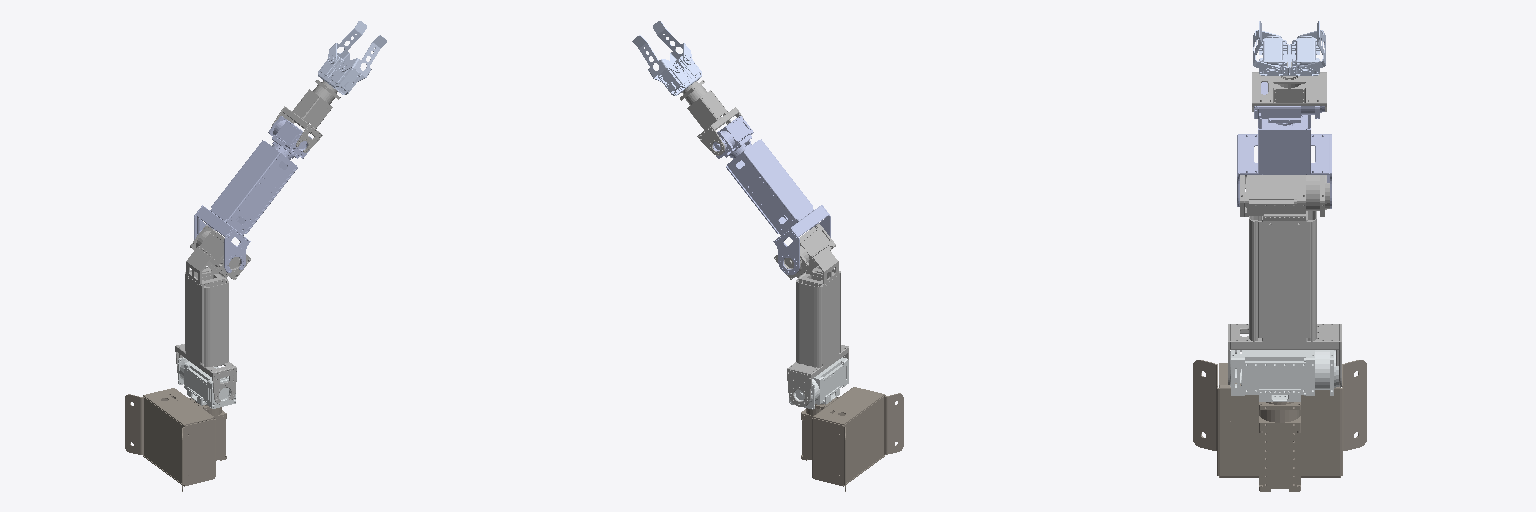
robot.urdf — h_arm_urdf:
<robot
  name="h_arm_urdf">
  <link
    name="arm_base_link">
    <inertial>
      <origin
        xyz="-0.025341 -0.00015693 0.00087354"
        rpy="0 0 0" />
      <mass
        value="1.6075" />
      <inertia
        ixx="0.0079143"
        ixy="-1.2323E-06"
        ixz="9.2385E-05"
        iyy="0.0053506"
        iyz="-7.6719E-06"
        izz="0.0072753" />
    </inertial>
    <visual>
      <origin
        xyz="0 0 0"
        rpy="0 0 0" />
      <geometry>
        <mesh
          filename="package://robotican_description/robot_arms/h_arm_urdfV3/meshes/arm_base_link.STL" />
      </geometry>
      <material
        name="">
        <color
          rgba="0.64706 0.61961 0.58824 1" />
      </material>
    </visual>
    <collision>
      <origin
        xyz="0 0 0"
        rpy="0 0 0" />
      <geometry>
        <mesh
          filename="package://robotican_description/robot_arms/h_arm_urdfV3/meshes/arm_base_link.STL" />
      </geometry>
    </collision>
  </link>
  <link
    name="arm_rotation1_link">
    <inertial>
      <origin
        xyz="-3.5191E-10 0.0073117 0.067899"
        rpy="0 0 0" />
      <mass
        value="0.35317" />
      <inertia
        ixx="0.00055596"
        ixy="9.2617E-12"
        ixz="9.2232E-12"
        iyy="0.00016945"
        iyz="6.1918E-06"
        izz="0.00055286" />
    </inertial>
    <visual>
      <origin
        xyz="0 0 0"
        rpy="0 0 0" />
      <geometry>
        <mesh
          filename="package://robotican_description/robot_arms/h_arm_urdfV3/meshes/arm_rotation1_link.STL" />
      </geometry>
      <material
        name="">
        <color
          rgba="0.89804 0.91765 0.92941 1" />
      </material>
    </visual>
    <collision>
      <origin
        xyz="0 0 0"
        rpy="0 0 0" />
      <geometry>
        <mesh
          filename="package://robotican_description/robot_arms/h_arm_urdfV3/meshes/arm_rotation1_link.STL" />
      </geometry>
    </collision>
  </link>
  <joint
    name="arm_rotation1_joint"
    type="revolute">
    <origin
      xyz="0.027 0 0.033"
      rpy="0 0 0" />
    <parent
      link="arm_base_link" />
    <child
      link="arm_rotation1_link" />
    <axis
      xyz="0 0 1" />
    <limit
      effort="0"
      velocity="0"
      lower="-1.57"
      upper="1.57"
     />
  </joint>
  <link
    name="arm_shoulder1_link">
    <inertial>
      <origin
        xyz="0.01628 -0.032683 0.20044"
        rpy="0 0 0" />
      <mass
        value="0.52217" />
      <inertia
        ixx="0.00437"
        ixy="-9.87E-07"
        ixz="0.00053636"
        iyy="0.0041046"
        iyz="-4.3615E-05"
        izz="0.00082919" />
    </inertial>
    <visual>
      <origin
        xyz="0 0 0"
        rpy="0 0 0" />
      <geometry>
        <mesh
          filename="package://robotican_description/robot_arms/h_arm_urdfV3/meshes/arm_shoulder1_link.STL" />
      </geometry>
      <material
        name="">
        <color
          rgba="0.75294 0.75294 0.75294 1" />
      </material>
    </visual>
    <collision>
      <origin
        xyz="0 0 0"
        rpy="0 0 0" />
      <geometry>
        <mesh
          filename="package://robotican_description/robot_arms/h_arm_urdfV3/meshes/arm_shoulder1_link.STL" />
      </geometry>
    </collision>
  </link>
  <joint
    name="arm_shoulder1_joint"
    type="revolute">
    <origin
      xyz="0 0.039 0.069"
      rpy="0 0 0" />
    <parent
      link="arm_rotation1_link" />
    <child
      link="arm_shoulder1_link" />
    <axis
      xyz="0 1 0" />
    <limit
      lower="0"
      upper="1.57"
      effort="0"
      velocity="0" />
  </joint>
  <link
    name="arm_shoulder2_link">
    <inertial>
      <origin
        xyz="-0.029807 -0.020675 0.12921"
        rpy="0 0 0" />
      <mass
        value="0.44964" />
      <inertia
        ixx="0.0013957"
        ixy="2.2944E-06"
        ixz="-9.6791E-06"
        iyy="0.0013155"
        iyz="-1.6943E-05"
        izz="0.0003579" />
    </inertial>
    <visual>
      <origin
        xyz="0 0 0"
        rpy="0 0 0" />
      <geometry>
        <mesh
          filename="package://robotican_description/robot_arms/h_arm_urdfV3/meshes/arm_shoulder2_link.STL" />
      </geometry>
      <material
        name="">
        <color
          rgba="0.79216 0.81961 0.93333 1" />
      </material>
    </visual>
    <collision>
      <origin
        xyz="0 0 0"
        rpy="0 0 0" />
      <geometry>
        <mesh
          filename="package://robotican_description/robot_arms/h_arm_urdfV3/meshes/arm_shoulder2_link.STL" />
      </geometry>
    </collision>
  </link>
  <joint
    name="arm_shoulder2_joint"
    type="revolute">
    <origin
      xyz="0.029998 -0.012 0.264"
      rpy="0 0.7853981634 0" />
    <parent
      link="arm_shoulder1_link" />
    <child
      link="arm_shoulder2_link" />
    <axis
      xyz="0 1 0" />
    <limit
      lower="-0.65"
      upper="2.3522"
      effort="0"
      velocity="0" />
  </joint>
  <link
    name="arm_rotation2_link">
    <inertial>
      <origin
        xyz="1.2931E-08 0.0043427 0.097839"
        rpy="0 0 0" />
      <mass
        value="0.14367" />
      <inertia
        ixx="0.00010361"
        ixy="-8.012E-11"
        ixz="2.2317E-12"
        iyy="4.3409E-05"
        iyz="1.1487E-06"
        izz="0.00010218" />
    </inertial>
    <visual>
      <origin
        xyz="0 0 0"
        rpy="0 0 0" />
      <geometry>
        <mesh
          filename="package://robotican_description/robot_arms/h_arm_urdfV3/meshes/arm_rotation2_link.STL" />
      </geometry>
      <material
        name="">
        <color
          rgba="0.79216 0.81961 0.93333 1" />
      </material>
    </visual>
    <collision>
      <origin
        xyz="0 0 0"
        rpy="0 0 0" />
      <geometry>
        <mesh
          filename="package://robotican_description/robot_arms/h_arm_urdfV3/meshes/arm_rotation2_link.STL" />
      </geometry>
    </collision>
  </link>
  <joint
    name="arm_rotation2_joint"
    type="revolute">
    <origin
      xyz="-0.03 -0.021 0.159"
      rpy="0 0 0" />
    <parent
      link="arm_shoulder2_link" />
    <child
      link="arm_rotation2_link" />
    <axis
      xyz="0 0 1" />
    <limit
      lower="-3.14"
      upper="3.14"
      effort="0"
      velocity="0" />
  </joint>
  <link
    name="arm_shoulder3_link">
    <inertial>
      <origin
        xyz="3.9349E-11 -0.044252 0.069689"
        rpy="0 0 0" />
      <mass
        value="0.15954" />
      <inertia
        ixx="0.00018198"
        ixy="2.101E-13"
        ixz="-2.3374E-13"
        iyy="0.00015335"
        iyz="-5.6341E-06"
        izz="7.5641E-05" />
    </inertial>
    <visual>
      <origin
        xyz="0 0 0"
        rpy="0 0 0" />
      <geometry>
        <mesh
          filename="package://robotican_description/robot_arms/h_arm_urdfV3/meshes/arm_shoulder3_link.STL" />
      </geometry>
      <material
        name="">
        <color
          rgba="0.75294 0.75294 0.75294 1" />
      </material>
    </visual>
    <collision>
      <origin
        xyz="0 0 0"
        rpy="0 0 0" />
      <geometry>
        <mesh
          filename="package://robotican_description/robot_arms/h_arm_urdfV3/meshes/arm_shoulder3_link.STL" />
      </geometry>
    </collision>
  </link>
  <joint
    name="arm_shoulder3_joint"
    type="revolute">
    <origin
      xyz="0 0.051 0.099"
      rpy="0 0 0" />
    <parent
      link="arm_rotation2_link" />
    <child
      link="arm_shoulder3_link" />
    <axis
      xyz="0 1 0" />
    <limit
      lower="-1.57"
      upper="1.57"
      effort="0"
      velocity="0" />
  </joint>
  <link
    name="arm_wrist_link">
    <inertial>
      <origin
        xyz="2.0891E-05 6.5048E-10 0.030365"
        rpy="0 0 0" />
      <mass
        value="0.70734" />
      <inertia
        ixx="0.00048369"
        ixy="3.6682E-12"
        ixz="-3.0001E-06"
        iyy="0.00020635"
        iyz="5.4223E-12"
        izz="0.00043266" />
    </inertial>
    <visual>
      <origin
        xyz="0 0 0"
        rpy="0 0 0" />
      <geometry>
        <mesh
          filename="package://robotican_description/robot_arms/h_arm_urdfV3/meshes/arm_wrist_link.STL" />
      </geometry>
      <material
        name="">
        <color
          rgba="0.86667 0.9098 1 1" />
      </material>
    </visual>
    <collision>
      <origin
        xyz="0 0 0"
        rpy="0 0 0" />
      <geometry>
        <mesh
          filename="package://robotican_description/robot_arms/h_arm_urdfV3/meshes/arm_wrist_link.STL" />
      </geometry>
    </collision>
  </link>
  <joint
    name="arm_wrist_joint"
    type="revolute">
    <origin
      xyz="0 -0.045 0.123"
      rpy="0 0 0" />
    <parent
      link="arm_shoulder3_link" />
    <child
      link="arm_wrist_link" />
    <axis
      xyz="0 0 1" />
    <limit
      lower="-3.14"
      upper="3.14"
      effort="0"
      velocity="0" />
  </joint>
 <link
    name="gripper_r_link">
    <inertial>
      <origin
        xyz="-2.7756E-17 0.014873 0.033361"
        rpy="0 0 0" />
      <mass
        value="0.011198" />
      <inertia
        ixx="9.7735E-06"
        ixy="-9.7742E-22"
        ixz="9.8678E-21"
        iyy="1.1665E-05"
        iyz="7.8401E-07"
        izz="3.3484E-06" />
    </inertial>
    <visual>
      <origin
        xyz="0 0.02471 0.02073"
        rpy="0 0 0" />
      <geometry>
        <mesh
          filename="package://robotican_description/robot_arms/h_arm_urdfV3/meshes/gripper_r_link.STL" />
      </geometry>
      <material
        name="">
        <color
          rgba="0.86667 0.9098 1 1" />
      </material>
    </visual>
    <collision>
      <origin
        xyz="0 0 0"
        rpy="0 0 0" />
      <geometry>
        <mesh
          filename="package://robotican_description/robot_arms/h_arm_urdfV3/meshes/gripper_r_link.STL" />
      </geometry>
    </collision>
  </link>
  <joint
    name="gripper_r_joint"
    type="revolute">
    <origin
      xyz="0 0.021 0.04225"
      rpy="0 0 0" />
    <parent
      link="arm_wrist_link" />
    <child
      link="gripper_r_link" />
    <axis
      xyz="1 0 0" />
    <limit
      lower="-1.0"
      upper="0.4"
      effort="0"
      velocity="0" />
  </joint>
  <link
    name="gripper_l_link">
    <inertial>
      <origin
        xyz="-3.6429E-17 -0.014873 0.033361"
        rpy="0 0 0" />
      <mass
        value="0.011198" />
      <inertia
        ixx="9.7735E-06"
        ixy="1.7627E-21"
        ixz="-5.8868E-21"
        iyy="1.1665E-05"
        iyz="-7.8401E-07"
        izz="3.3484E-06" />
    </inertial>
    <visual>
      <origin
        xyz="0 -0.02471 0.02073"
        rpy="0 0 0" />
      <geometry>
        <mesh
          filename="package://robotican_description/robot_arms/h_arm_urdfV3/meshes/gripper_l_link.STL" />
      </geometry>
      <material
        name="">
        <color
          rgba="0.86667 0.9098 1 1" />
      </material>
    </visual>
    <collision>
      <origin
        xyz="0 0 0"
        rpy="0 0 0" />
      <geometry>
        <mesh
          filename="package://robotican_description/robot_arms/h_arm_urdfV3/meshes/gripper_l_link.STL" />
      </geometry>
    </collision>
  </link>
  <joint
    name="gripper_l_joint"
    type="revolute">
    <origin
      xyz="0 -0.021 0.04225"
      rpy="0 0 0" />
    <parent
      link="arm_wrist_link" />
    <child
      link="gripper_l_link" />
    <axis
      xyz="1 0 0" />
    <limit
      lower="-0.4"
      upper="1.0"
      effort="0"
      velocity="0" />
  </joint>
</robot>

--- Facts derived from the render (not from the file) ---
Views: 3 orthographic renders of the robot side by side, from view 1: azimuth 30°, elevation 25°; view 2: azimuth 150°, elevation 25°; view 3: azimuth 270°, elevation 25°.
Robot: h_arm_urdf — 9 links, 8 joints (8 revolute); root link arm_base_link; default pose: all joints at 0.
Visible links, largest first — view 1: arm_base_link, arm_shoulder1_link, arm_shoulder2_link, arm_shoulder3_link, arm_rotation1_link, arm_wrist_link, arm_rotation2_link, gripper_l_link, gripper_r_link; view 2: arm_base_link, arm_shoulder1_link, arm_shoulder2_link, arm_shoulder3_link, arm_rotation1_link, arm_wrist_link, arm_rotation2_link, gripper_r_link, gripper_l_link; view 3: arm_base_link, arm_shoulder1_link, arm_rotation1_link, arm_shoulder2_link, arm_shoulder3_link, arm_wrist_link, arm_rotation2_link.
Link boxes in pixels (x1,y1,x2,y2): arm_base_link: (125,388,226,491); arm_shoulder1_link: (175,225,250,402); arm_shoulder2_link: (194,140,297,272); arm_shoulder3_link: (271,80,340,152); arm_rotation1_link: (178,357,235,408); arm_wrist_link: (318,55,361,94); arm_rotation2_link: (268,116,311,158); gripper_l_link: (338,35,386,81); gripper_r_link: (327,21,366,63); arm_base_link: (801,387,903,491); arm_shoulder1_link: (774,224,848,406); arm_shoulder2_link: (726,139,830,274); arm_shoulder3_link: (680,80,743,155); arm_rotation1_link: (789,357,848,409); arm_wrist_link: (658,55,701,95); arm_rotation2_link: (713,116,753,158); gripper_r_link: (632,35,681,81); gripper_l_link: (653,21,692,63); arm_base_link: (1193,360,1366,491); arm_shoulder1_link: (1228,175,1341,386); arm_rotation1_link: (1230,350,1338,401); arm_shoulder2_link: (1237,115,1331,208); arm_shoulder3_link: (1252,62,1326,111); arm_wrist_link: (1259,36,1319,75); arm_rotation2_link: (1254,82,1324,122).
Bounding box of the posed robot: 0.5005 × 0.2206 × 0.8237 m (x, y, z).
9 mesh visuals loaded from 9 distinct referenced files (9 binary STL).